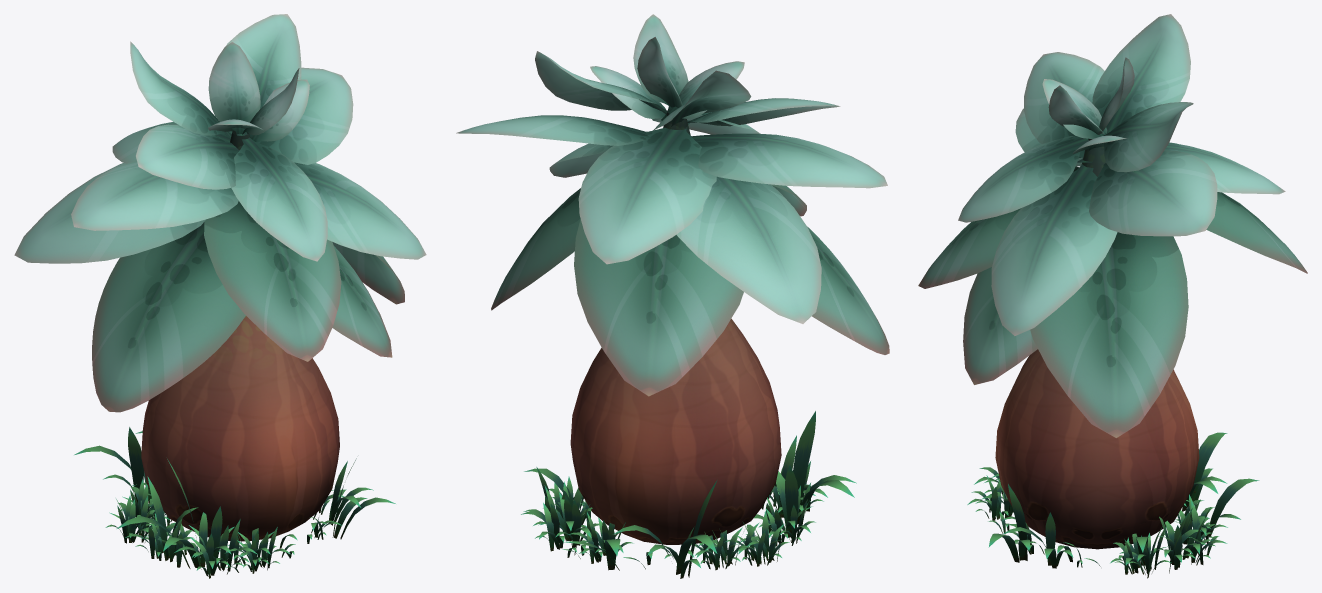
Rendered from strange_forest_tree05.fbx.
The picture shows the model from 3 angles, left to right: view 1: azimuth 30°, elevation 25°; view 2: azimuth 150°, elevation 25°; view 3: azimuth 270°, elevation 25°; orthographic projection. The views are drawn at different scales.
Parts seen in each view (by area): view 1: strangeForestTree05; view 2: strangeForestTree05; view 3: strangeForestTree05.
Boxes of the visible parts, x1,y1,x2,y2 form: strangeForestTree05: [14, 14, 426, 578]; strangeForestTree05: [456, 14, 889, 578]; strangeForestTree05: [918, 14, 1307, 578].
Bounding box in the file's own units: 75.92 × 99.33 × 72.63.
1 material, 1 textured.
